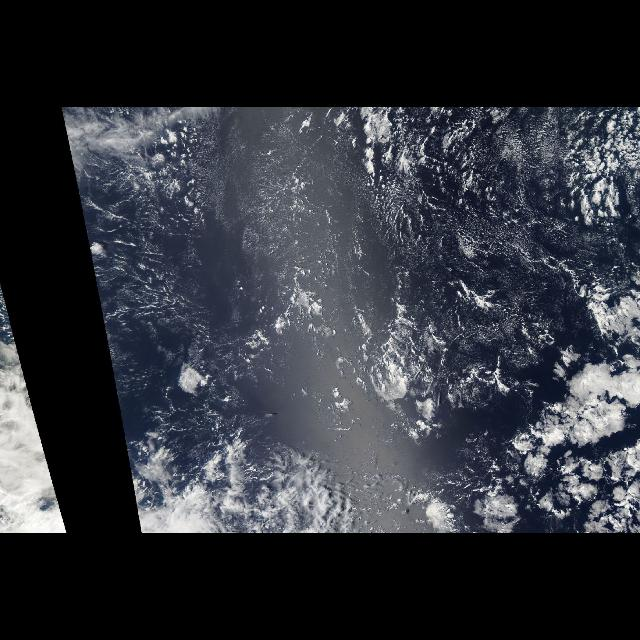Flower: (361, 331, 639, 533)
Gravel: (362, 108, 640, 384)
Sugar: (393, 114, 563, 278), (184, 140, 306, 314)
